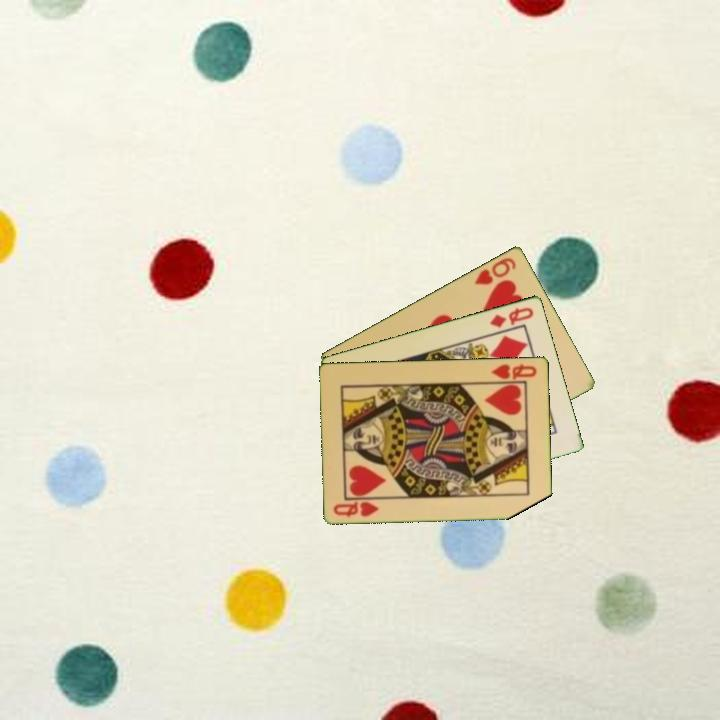6h: (471, 254, 519, 288)
Qd: (486, 303, 537, 330)
Qh: (486, 360, 540, 384), (330, 498, 382, 519)
